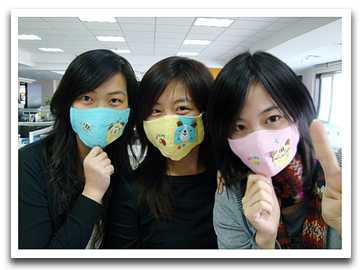OK: (230, 101, 306, 177), (143, 97, 205, 159), (71, 85, 132, 146)
